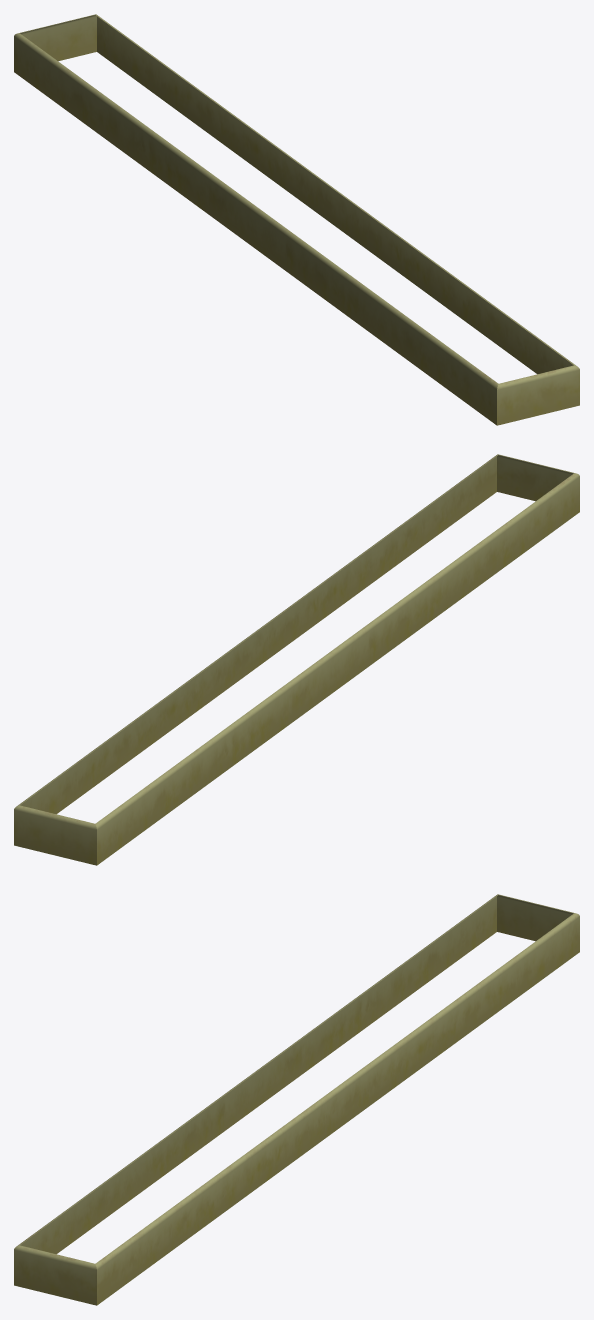
The model's file is WallBaseCollider.fbx.
3 renders of one model, top to bottom at view 1: azimuth 30°, elevation 25°; view 2: azimuth 150°, elevation 25°; view 3: azimuth 330°, elevation 25°, orthographic.
Parts seen in each view (by area): view 1: WallBaseCollider; view 2: WallBaseCollider; view 3: WallBaseCollider.
Boxes of the visible parts, bbox=[...] form: WallBaseCollider: bbox=[14, 14, 579, 425]; WallBaseCollider: bbox=[14, 454, 579, 865]; WallBaseCollider: bbox=[14, 894, 579, 1305].
Size of the model in its own units: 55 by 25 by 555.
